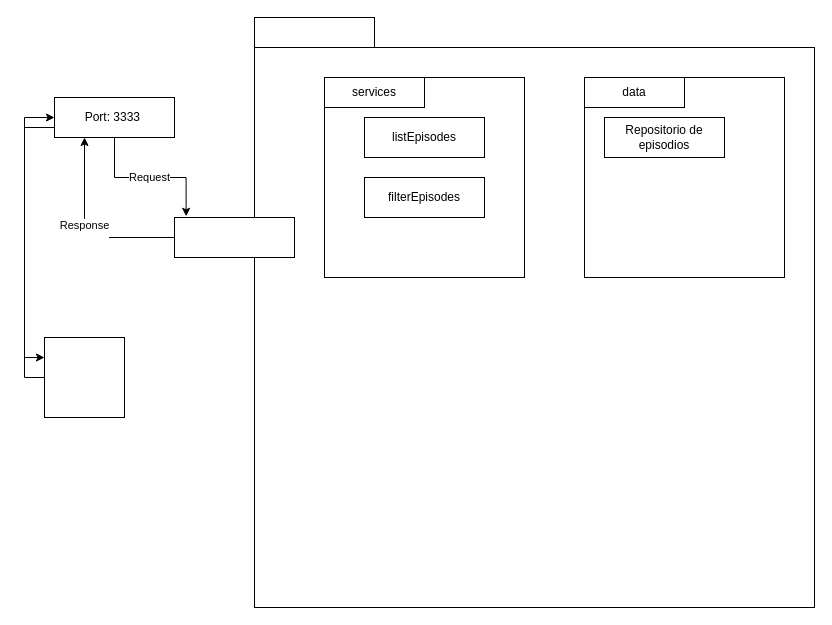
Some shapes in this 832 by 625 pixel diagram are drawn without their labels. Here are the shapes that lost their labels. From the top down, the box of each, then its label:
(254, 16, 374, 48): Node Server
(174, 216, 294, 258): podcastController
(44, 336, 124, 418): FrontEnd
